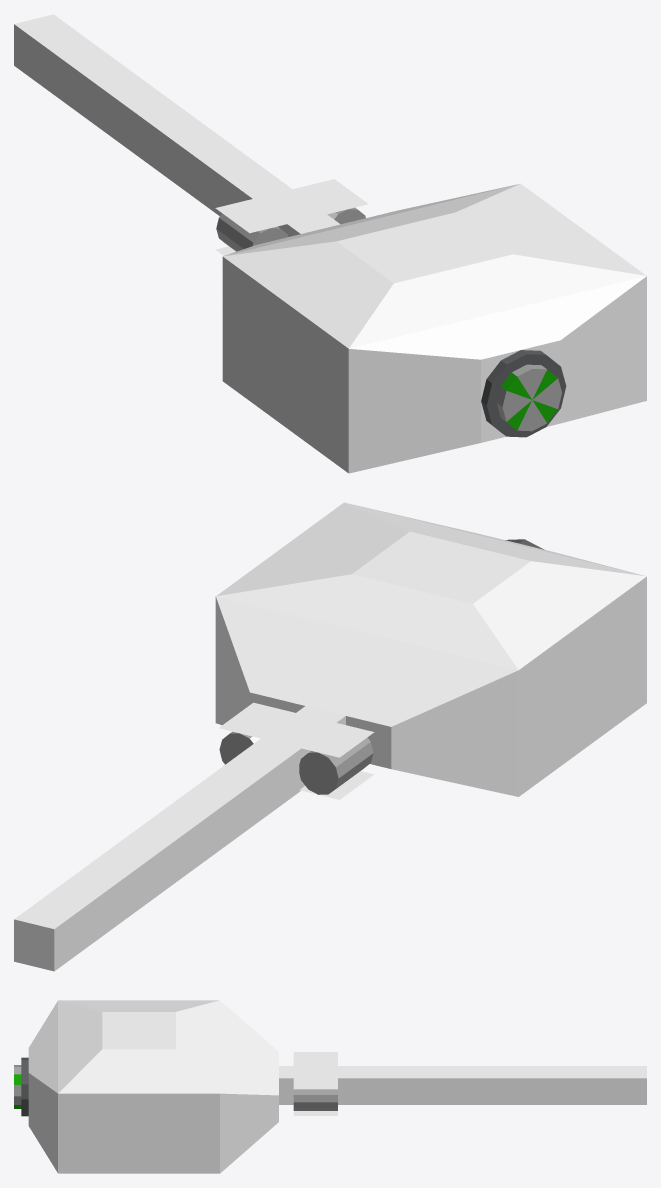
The model's file is railgun.dae.
3 renders of one model, top to bottom at view 1: azimuth 30°, elevation 25°; view 2: azimuth 150°, elevation 25°; view 3: azimuth 270°, elevation 25°, orthographic. The views are drawn at different scales.
Visible parts, largest first — view 1: main, muzzle, front_detail, back_circle; view 2: main, muzzle, front_detail; view 3: main, muzzle, front_detail, back_circle.
Boxes of the visible parts, x1,y1,x2,y2 form: main: [222, 183, 646, 473]; muzzle: [14, 14, 340, 236]; front_detail: [215, 179, 368, 255]; back_circle: [481, 350, 566, 437]; main: [215, 502, 646, 796]; muzzle: [14, 706, 345, 971]; front_detail: [219, 702, 374, 799]; main: [28, 1000, 278, 1173]; muzzle: [279, 1066, 646, 1104]; front_detail: [293, 1052, 337, 1115]; back_circle: [14, 1057, 28, 1116].
Bounding box in the file's own units: 0.9375 × 0.4375 × 2.69.
1 material, 1 textured.
